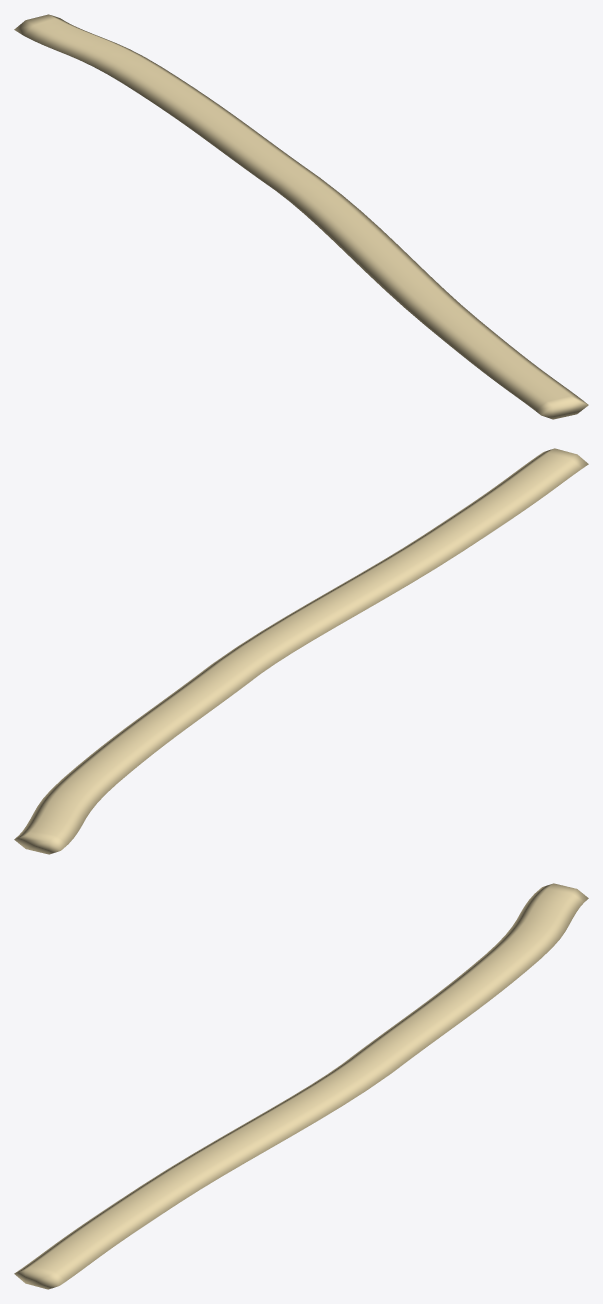
The model's file is Liangpi2.fbx.
The picture shows the model from 3 angles, top to bottom: view 1: azimuth 30°, elevation 25°; view 2: azimuth 150°, elevation 25°; view 3: azimuth 330°, elevation 25°; orthographic projection.
Visible parts, largest first — view 1: BezierCurve.004; view 2: BezierCurve.004; view 3: BezierCurve.004.
Part boxes in pixels (x1,y1,x2,y2): BezierCurve.004: [14, 14, 588, 419]; BezierCurve.004: [14, 448, 588, 854]; BezierCurve.004: [14, 883, 588, 1289].
Size of the model in its own units: 100 by 16.37 by 1175.
